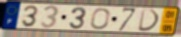3: (40, 5, 61, 29), (68, 6, 87, 30), (20, 5, 39, 28)
7: (117, 7, 138, 32)
D: (137, 8, 162, 33)
O: (90, 7, 111, 31)
